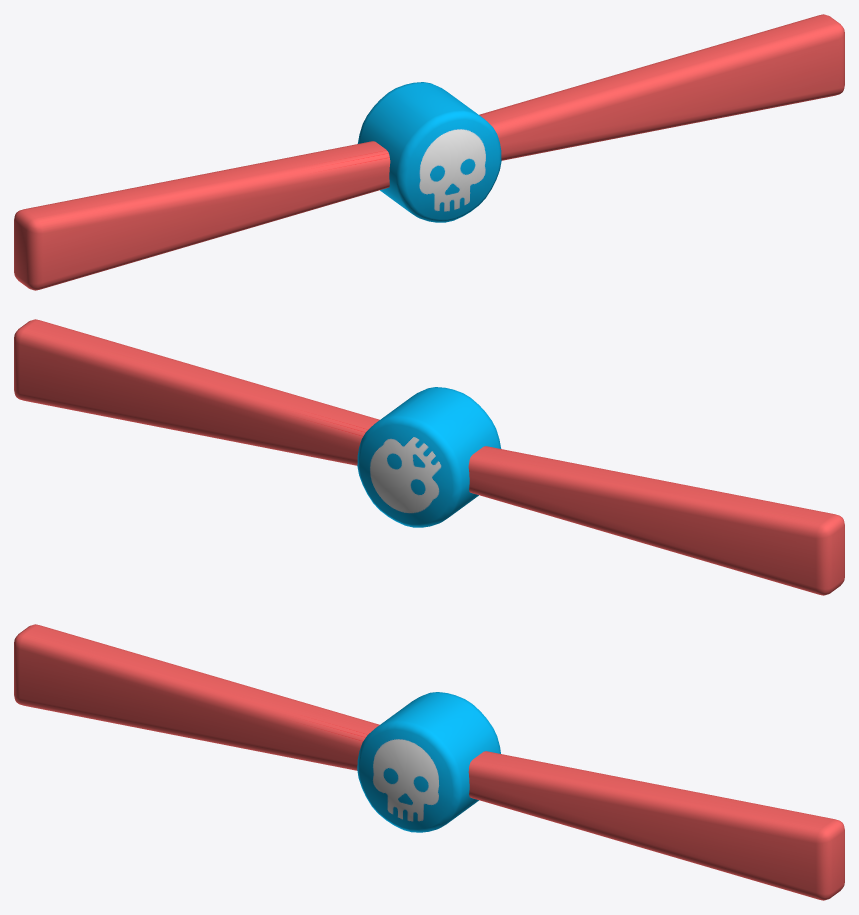
Rendered from rotate_big_horizontal_2.FBX.
The picture shows the model from 3 angles, top to bottom: view 1: azimuth 30°, elevation 25°; view 2: azimuth 150°, elevation 25°; view 3: azimuth 330°, elevation 25°; orthographic projection.
Parts seen in each view (by area): view 1: rotate_big_horizontal_2; view 2: rotate_big_horizontal_2; view 3: rotate_big_horizontal_2.
Part boxes in pixels (x1,y1,x2,y2): rotate_big_horizontal_2: [14, 14, 844, 290]; rotate_big_horizontal_2: [14, 319, 844, 595]; rotate_big_horizontal_2: [14, 624, 844, 900].
Bounding box in the file's own units: 11.76 × 1.49 × 1.16.
Materials: 1 (1 with a texture image).
